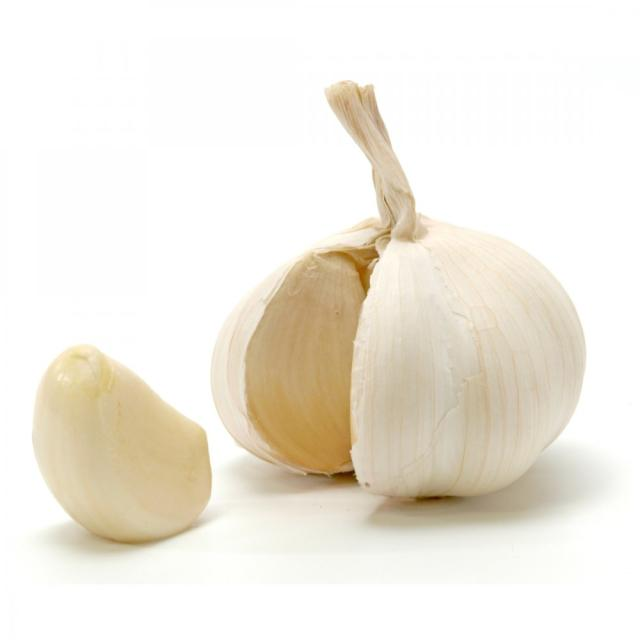garlic: (196, 186, 592, 498)
